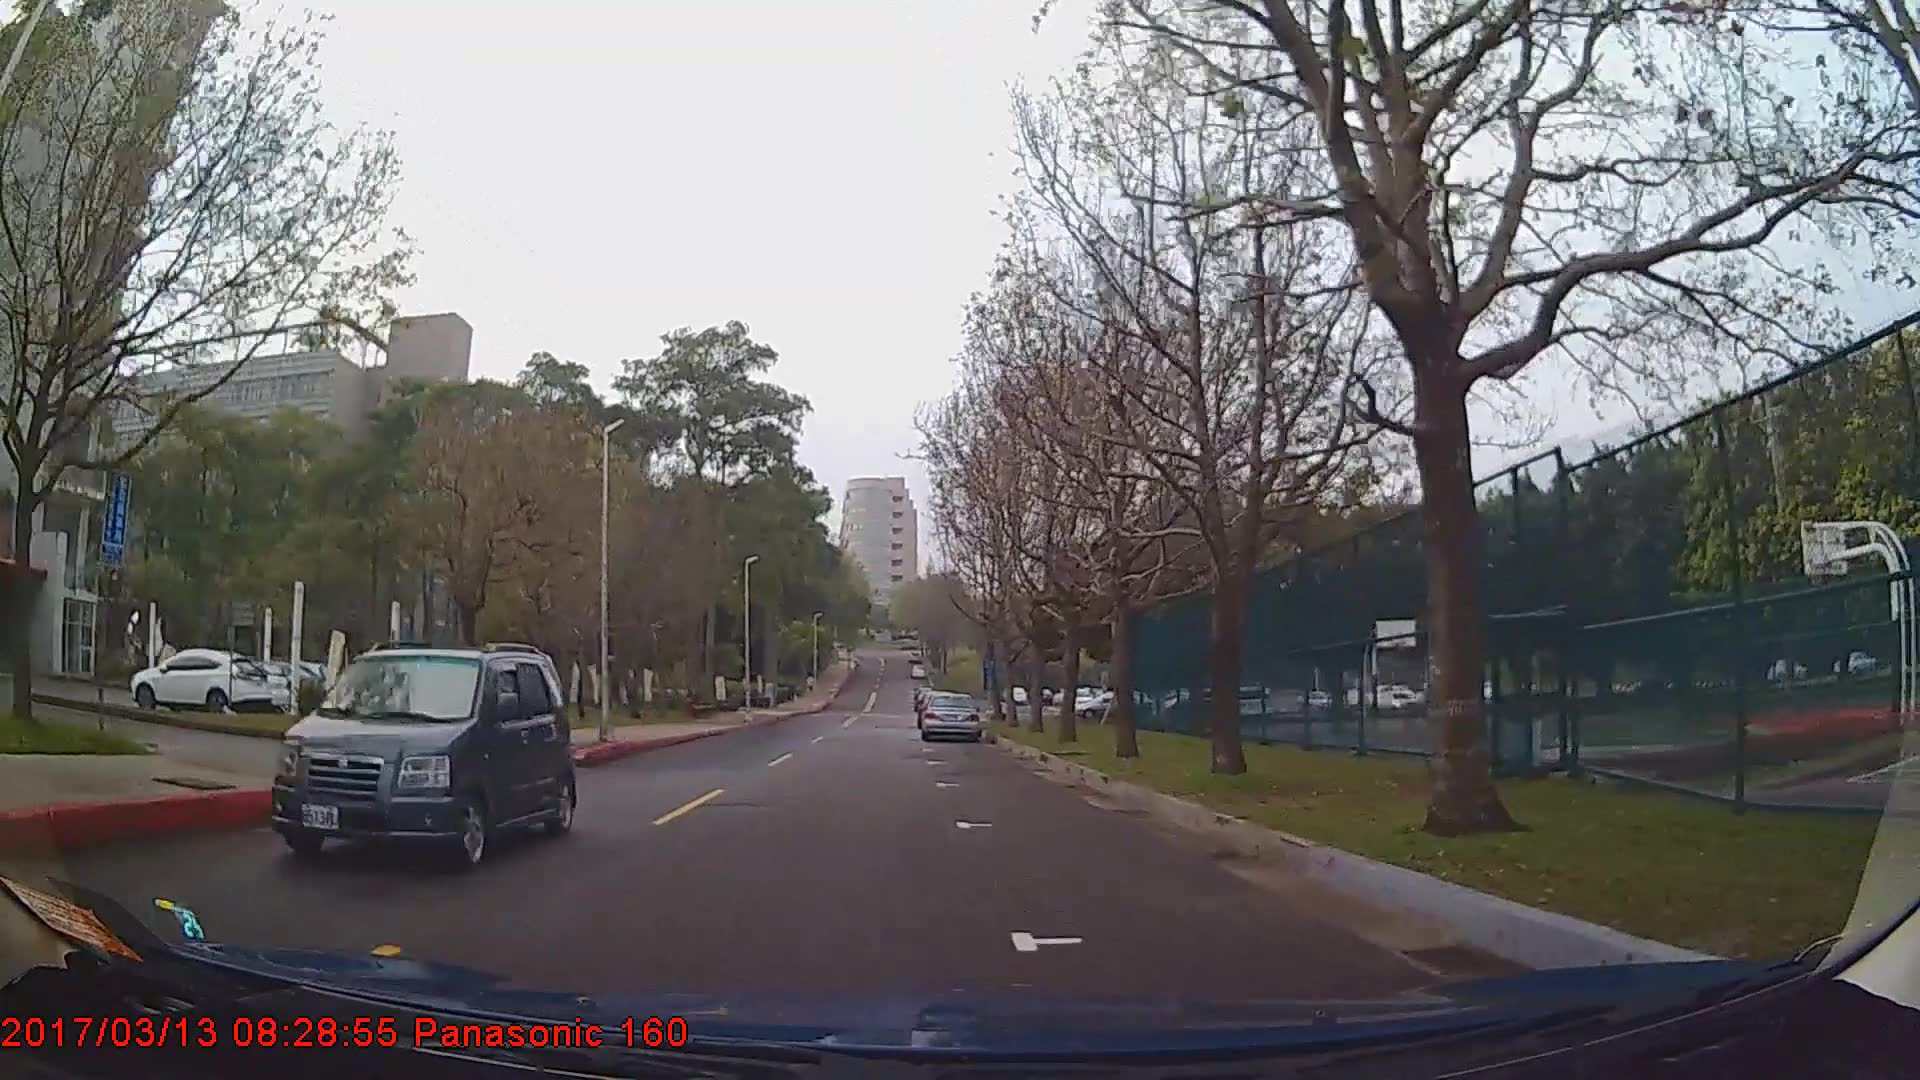vehicle: (266, 644, 578, 876), (128, 646, 268, 712), (919, 688, 982, 742)
